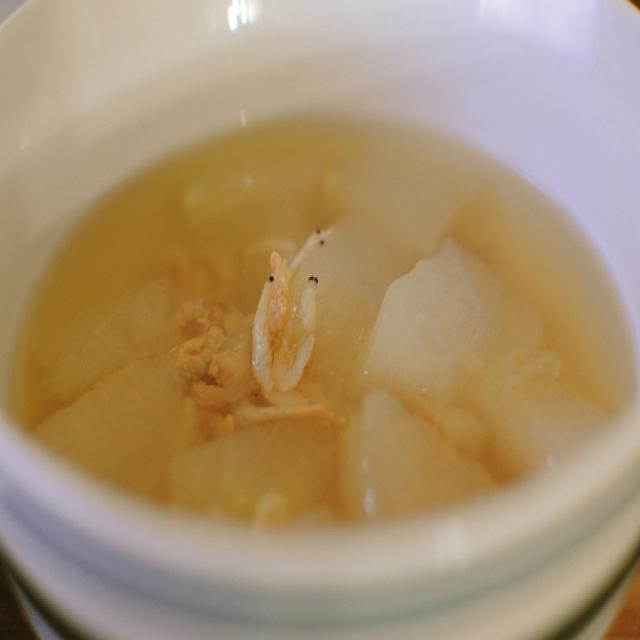汤锅炖物: (21, 27, 605, 610)
